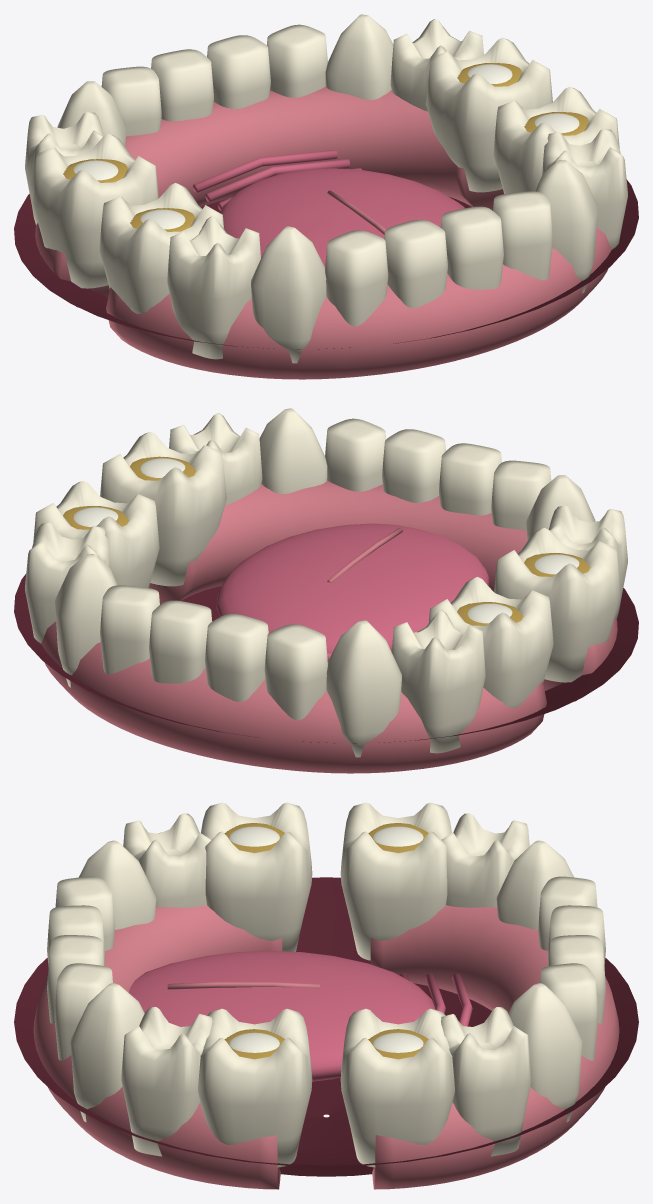
The model's file is treatment-mouth.glb.
The picture shows the model from 3 angles, top to bottom: view 1: azimuth 30°, elevation 25°; view 2: azimuth 150°, elevation 25°; view 3: azimuth 270°, elevation 25°; orthographic projection. The views are drawn at different scales.
Visible parts, largest first — view 1: Tooth enamel, Healthy gingiva, Tongue and palate, Oral interior, filling_0, filling_2, filling_1, filling_3; view 2: Tooth enamel, Healthy gingiva, Tongue and palate, Oral interior, filling_2, filling_0, filling_3, filling_1; view 3: Tooth enamel, Healthy gingiva, Tongue and palate, Oral interior, filling_0, filling_2, filling_1, filling_3, plaque_0, plaque_3, plaque_2.
Part boxes in pixels (<box>): Tooth enamel: <box>25,14,627,363</box>; Healthy gingiva: <box>35,86,611,379</box>; Tongue and palate: <box>192,150,464,267</box>; Oral interior: <box>14,179,638,349</box>; filling_0: <box>73,160,118,180</box>; filling_2: <box>140,209,185,229</box>; filling_1: <box>467,64,512,83</box>; filling_3: <box>534,113,579,132</box>; Tooth enamel: <box>25,408,627,757</box>; Healthy gingiva: <box>41,480,617,773</box>; Tongue and palate: <box>216,523,489,661</box>; Oral interior: <box>14,573,638,743</box>; filling_2: <box>534,554,579,574</box>; filling_0: <box>467,603,512,623</box>; filling_3: <box>140,458,185,477</box>; filling_1: <box>73,507,118,526</box>; Tooth enamel: <box>47,802,605,1167</box>; Healthy gingiva: <box>33,905,619,1189</box>; Tongue and palate: <box>128,951,472,1081</box>; Oral interior: <box>14,877,638,1176</box>; filling_0: <box>373,826,423,846</box>; filling_2: <box>229,826,279,846</box>; filling_1: <box>373,1032,423,1052</box>; filling_3: <box>229,1032,279,1052</box>; plaque_0: <box>368,823,428,853</box>; plaque_3: <box>224,1029,284,1059</box>; plaque_2: <box>224,823,284,853</box>.
Bounding box in the file's own units: 4.1 × 1.33 × 3.74.
